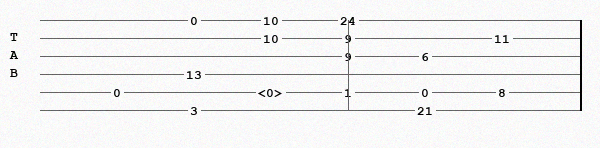0: (113, 86, 125, 98), (190, 14, 202, 26), (421, 86, 433, 98)
1: (344, 86, 356, 98)
10: (263, 32, 283, 44), (263, 14, 283, 26)
11: (494, 32, 514, 44)
13: (186, 68, 206, 80)
21: (417, 104, 437, 116)
24: (340, 14, 360, 26)
3: (190, 104, 202, 116)
6: (421, 50, 433, 62)
8: (498, 86, 510, 98)
9: (344, 32, 356, 44), (344, 50, 356, 62)
harmonic: (258, 86, 287, 98)
